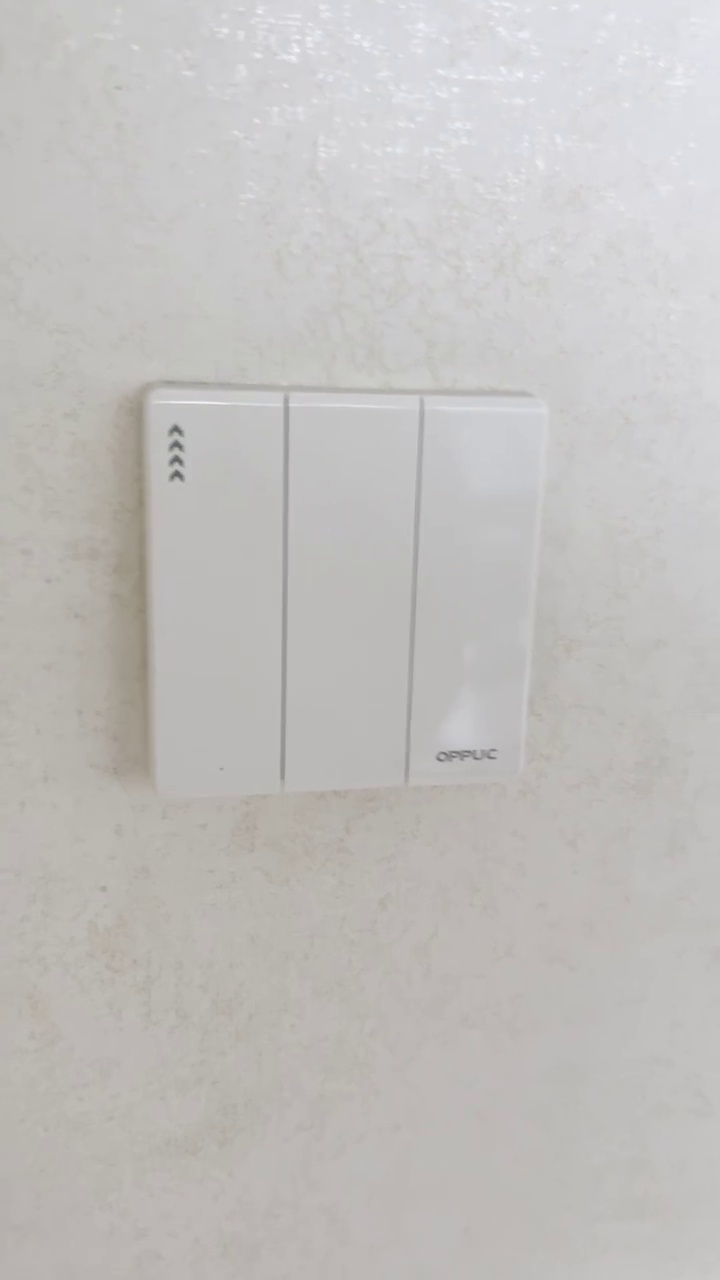button1: (143, 402, 282, 791), (284, 396, 415, 790), (413, 401, 538, 784)
